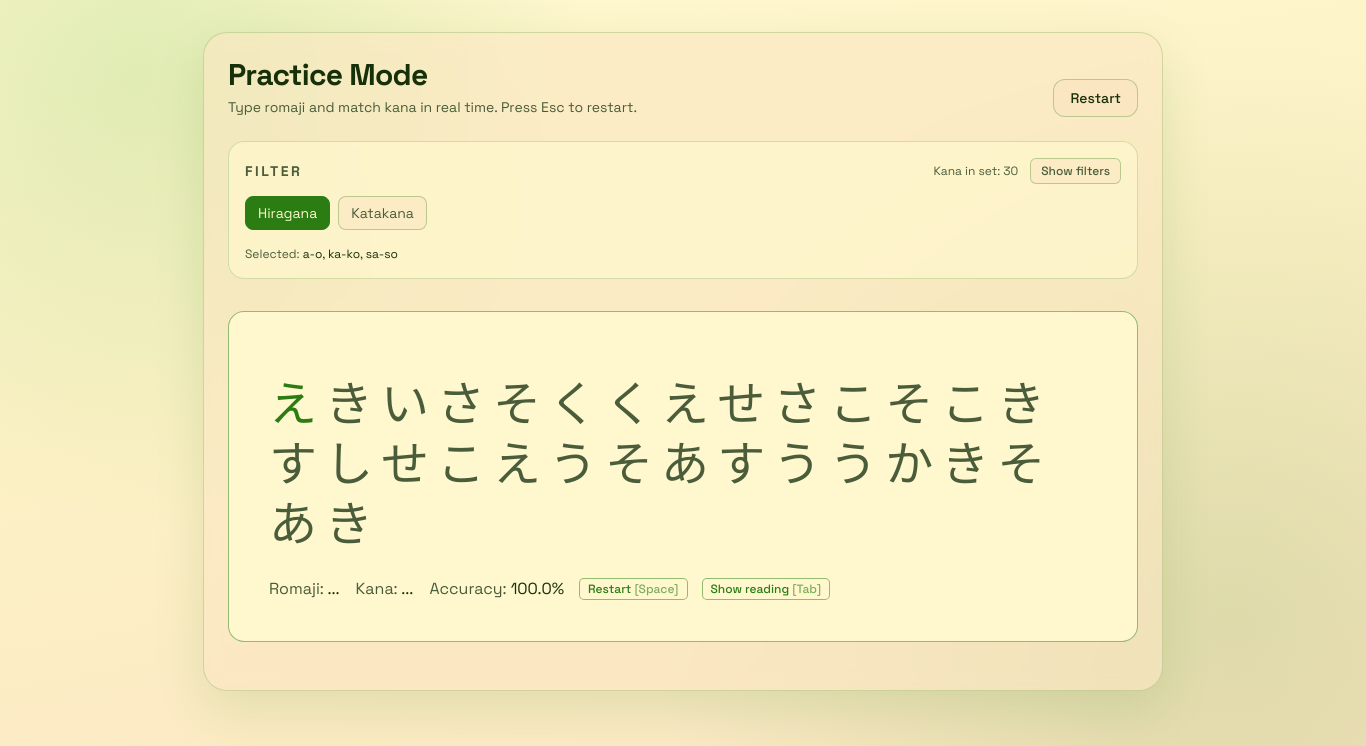
it: PracticePage › filter integration › reflects context state — toggling a group updates the filter summary
# Open the filter panel
Step 1. Click the button "Show filters" → (1076, 171), box top-left (1030, 158), bottom-right (1121, 184)
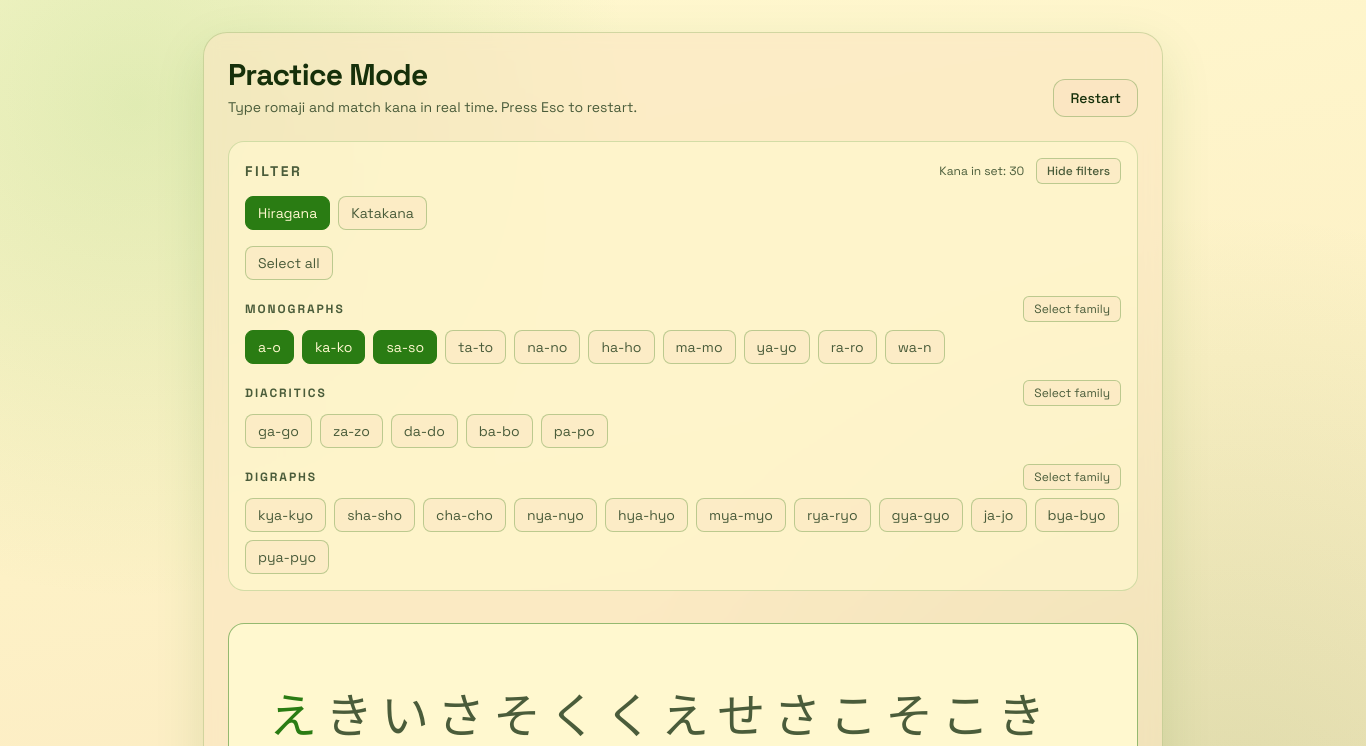
Step 2. Click the button "ka-ko" → (334, 347), box top-left (302, 330), bottom-right (366, 364)
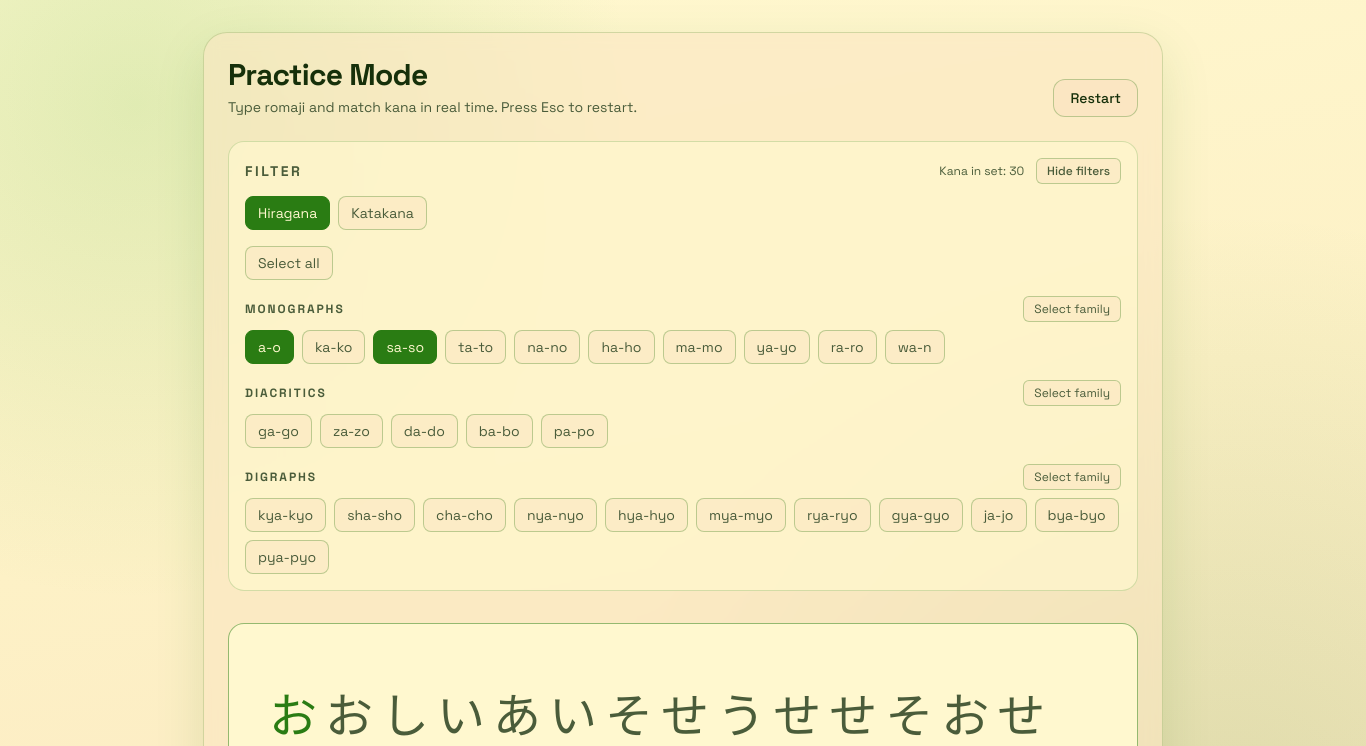
# Collapse again and read the summary
Step 3. Click the button "Hide filters" → (1079, 171), box top-left (1036, 158), bottom-right (1121, 184)
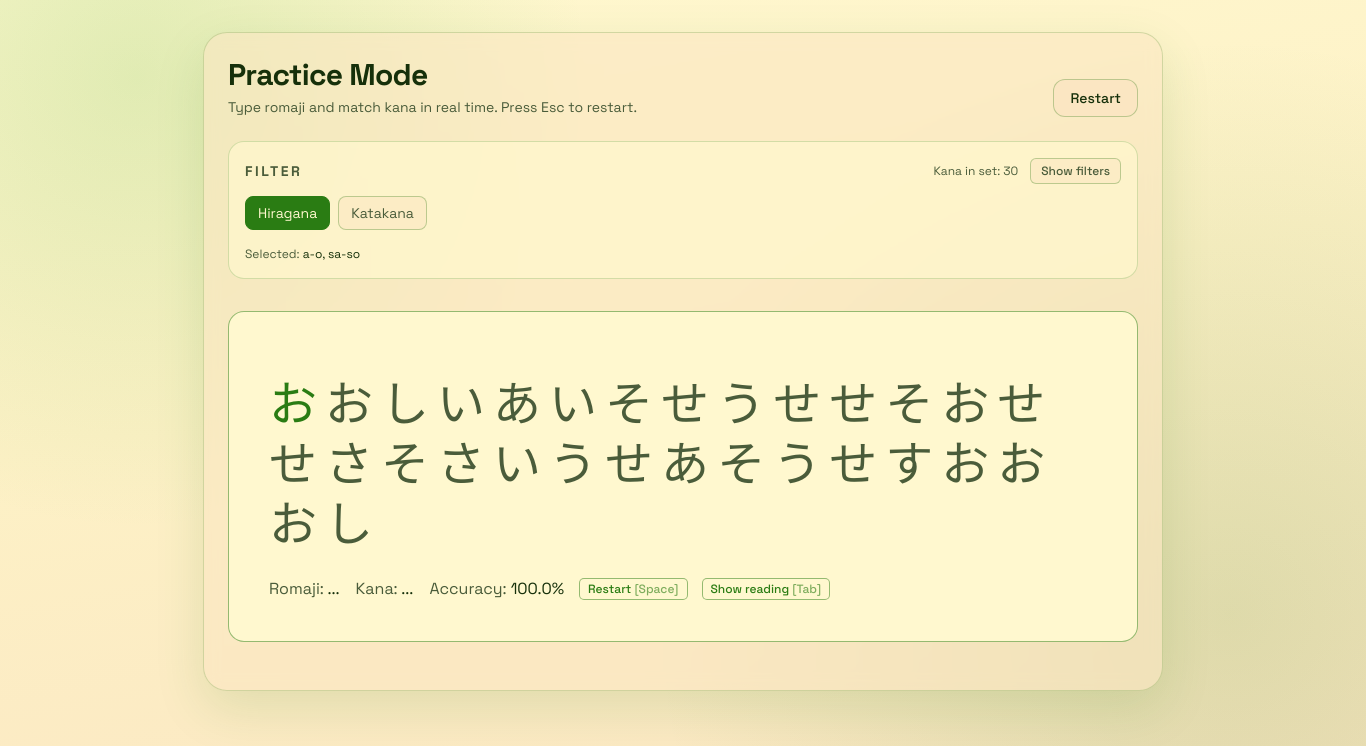
Now the button "ka-ko" is gone
